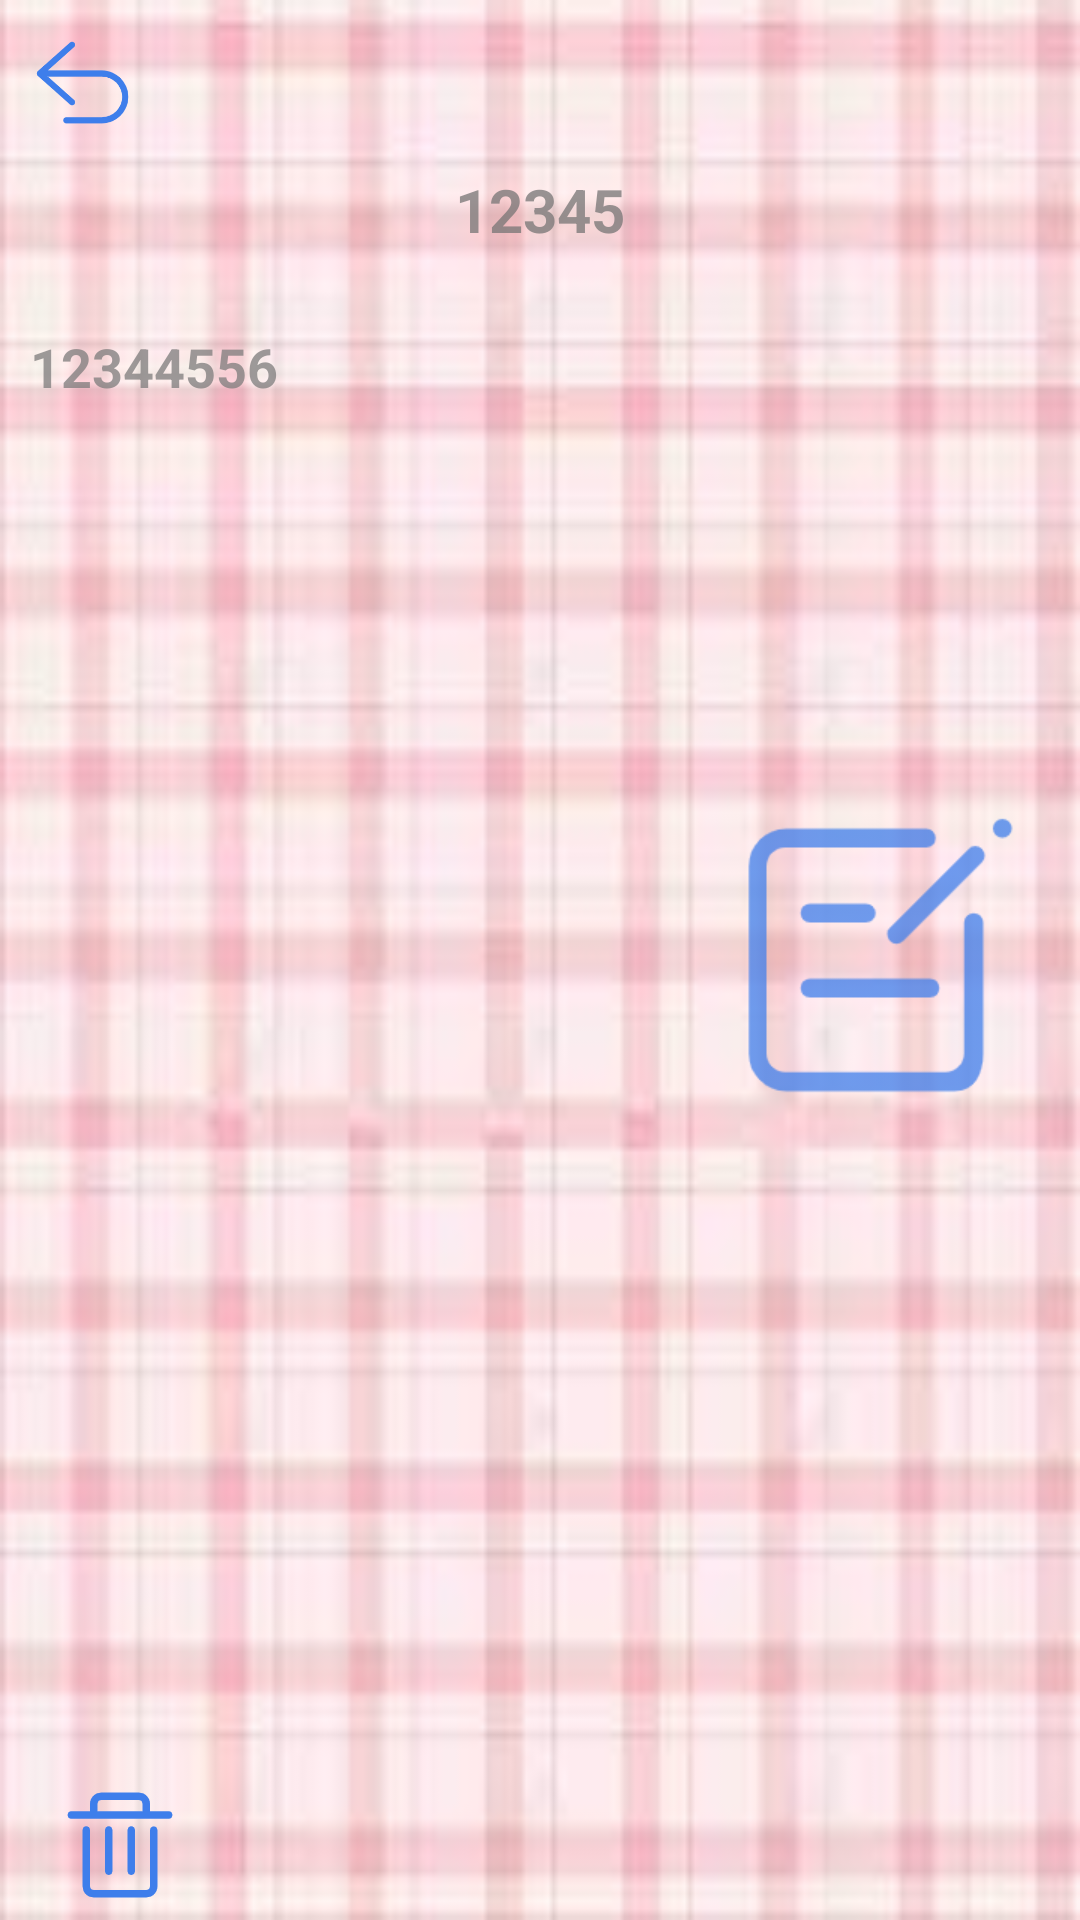

Icons on this 1080px×1920px Android screen, each with the point to tap as (x=x, y=y):
back: (x=82, y=82)
delete: (x=120, y=1845)
edit read: (x=870, y=960)
